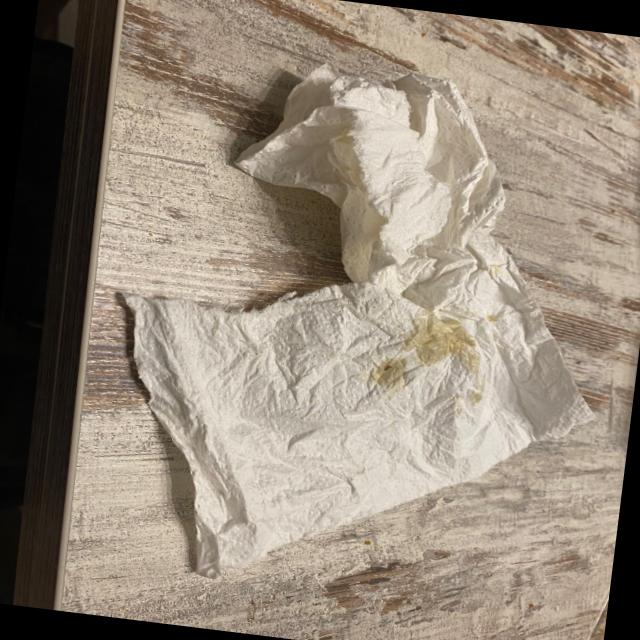organic waste: (80, 34, 640, 627)
